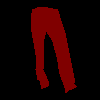pantaloni: (30, 6, 76, 93)
